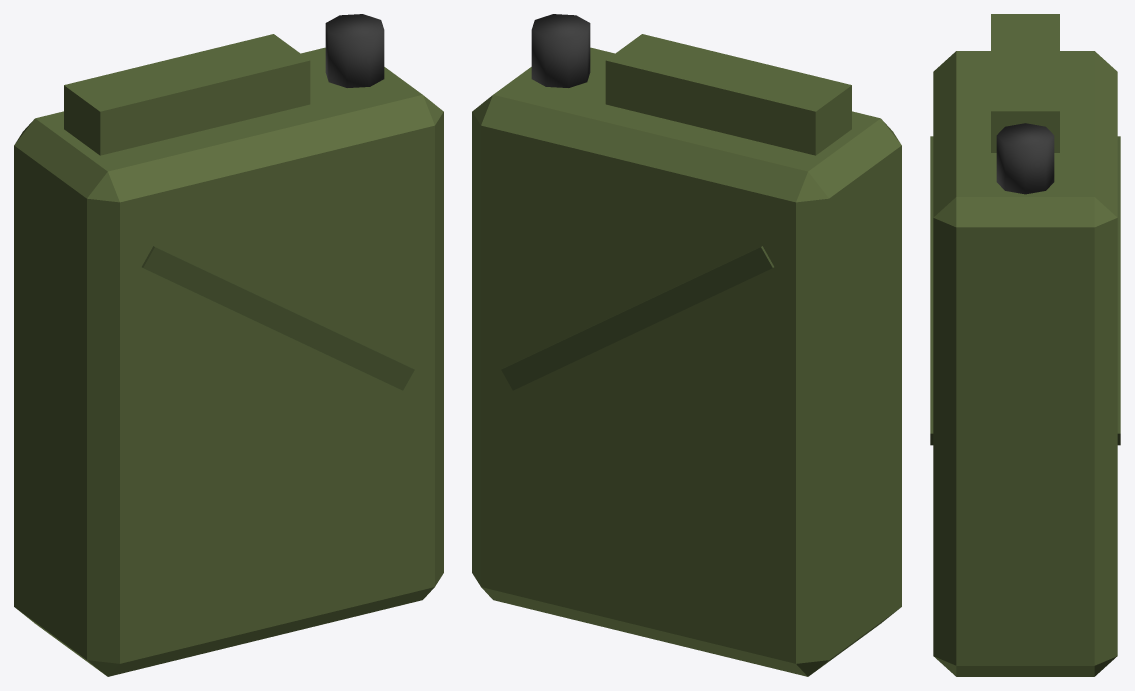
Rendered from jerrycan.glb.
The picture shows the model from 3 angles, left to right: view 1: azimuth 30°, elevation 25°; view 2: azimuth 150°, elevation 25°; view 3: azimuth 270°, elevation 25°; orthographic projection. The views are drawn at different scales.
Visible parts, largest first — view 1: Item; view 2: Item; view 3: Item.
Boxes of the visible parts, x1,y1,x2,y2 form: Item: (14, 14, 443, 676); Item: (472, 14, 901, 676); Item: (930, 14, 1120, 676).
Bounding box in the file's own units: 0.34 × 0.505 × 0.165.
